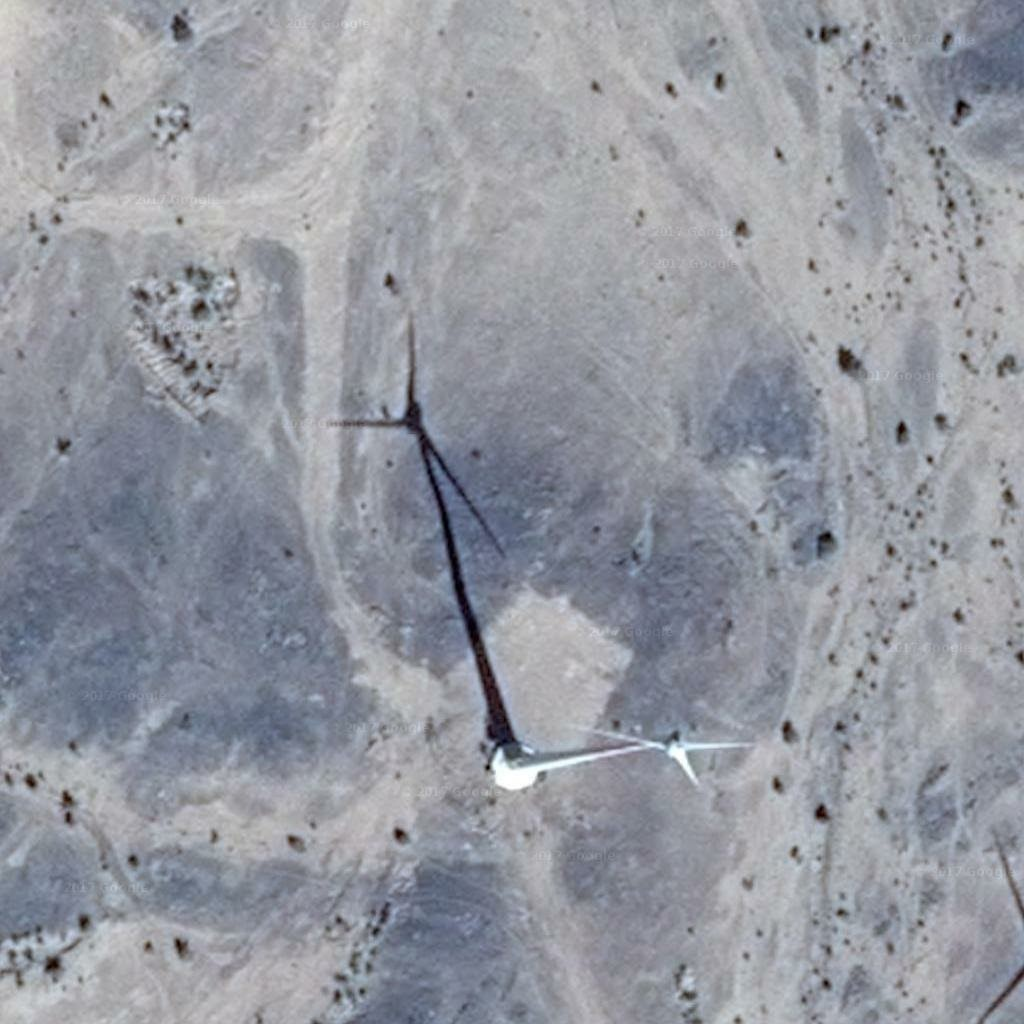Windmill: (329, 302, 502, 605)
